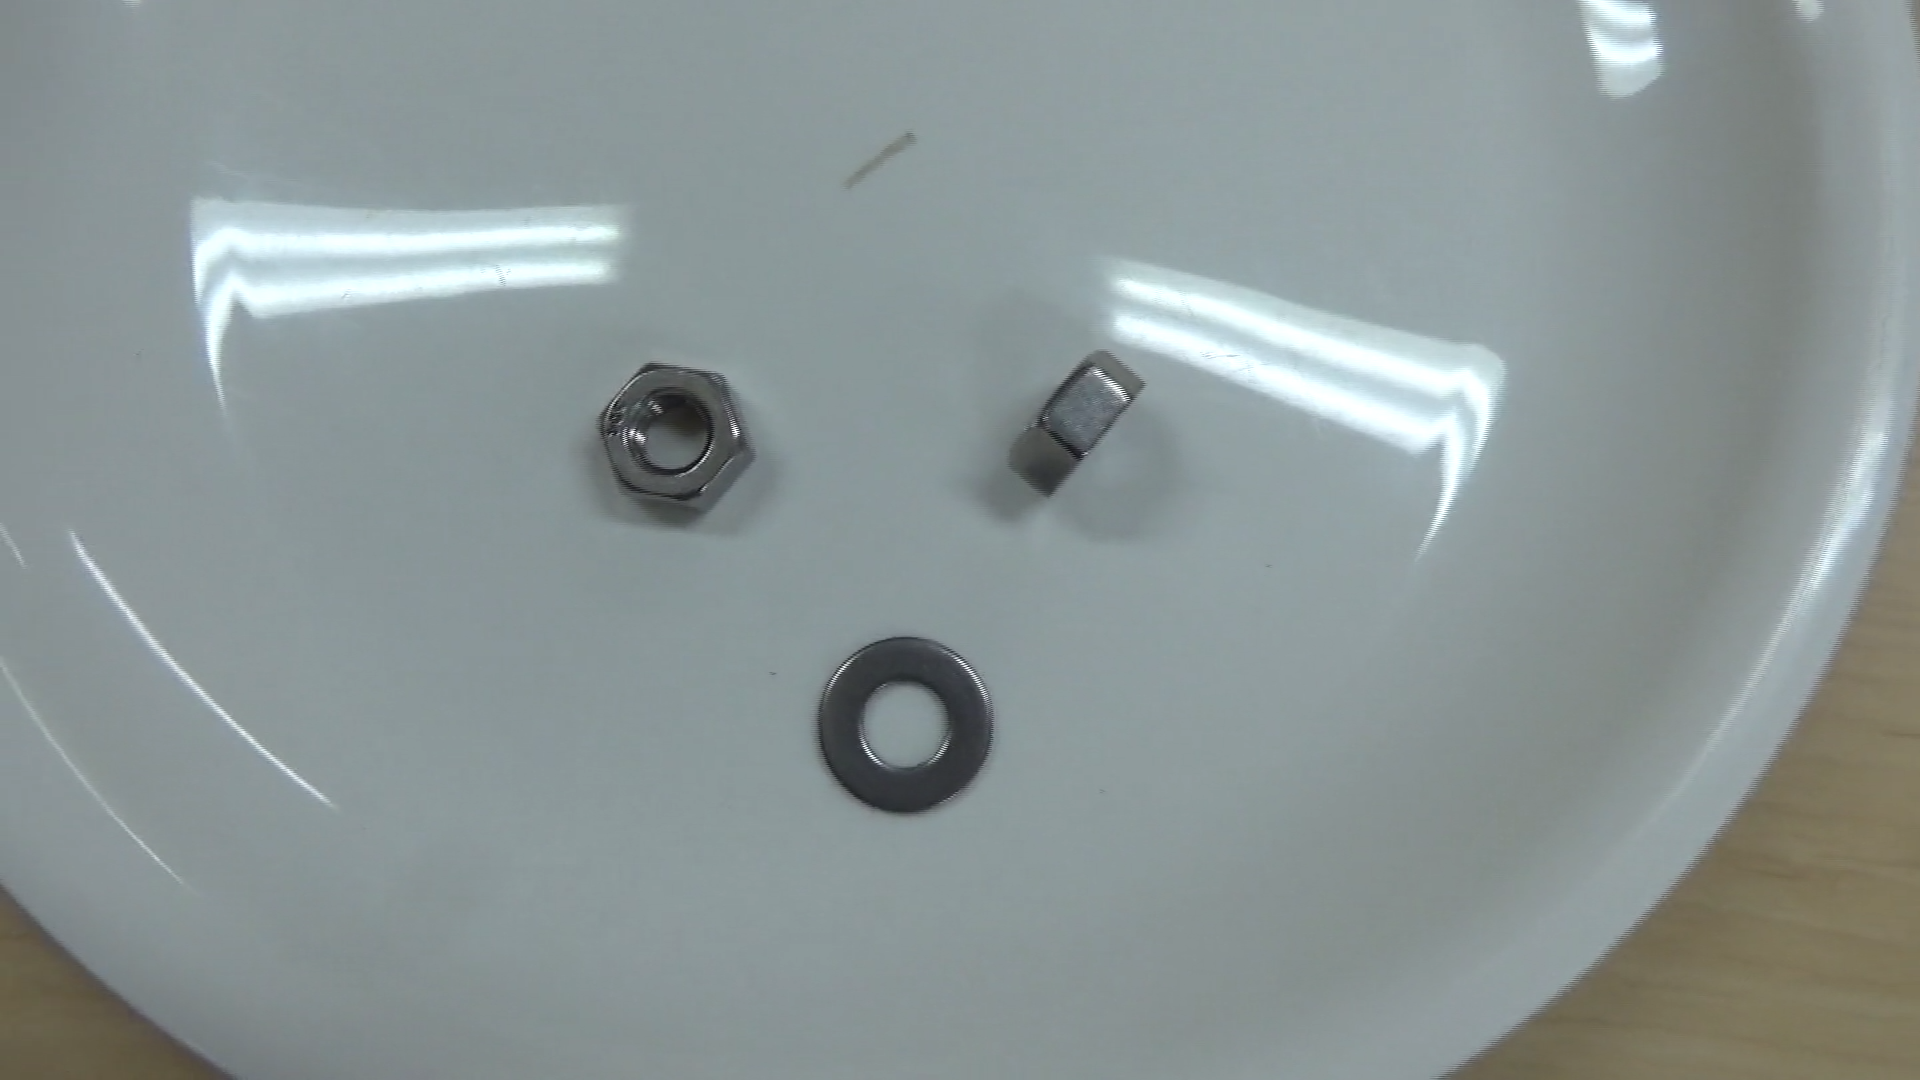nut: (578, 345, 764, 531), (989, 331, 1156, 518)
washer: (800, 622, 1005, 824)
